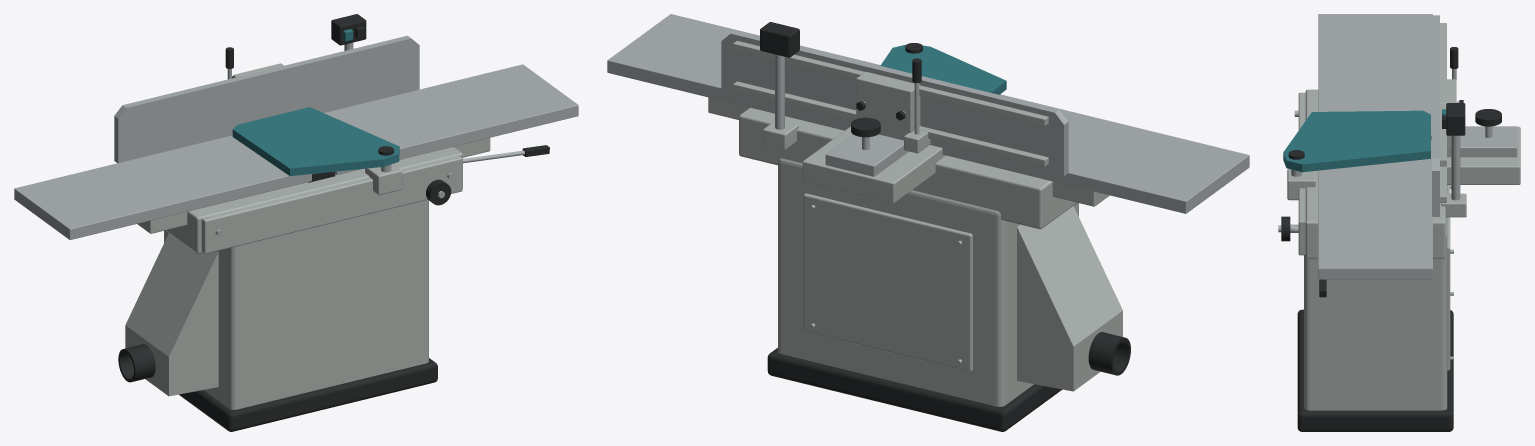
3 renders of one model, left to right at view 1: azimuth 30°, elevation 25°; view 2: azimuth 150°, elevation 25°; view 3: azimuth 270°, elevation 25°, orthographic. The views are drawn at different scales.
Visible parts, largest first — view 1: Low enclosed cabinet, Long upright straight fence, Long exposed worktable -0.496, Long exposed worktable 0.496, Tapered side extraction hood, Front apron, Central covered cutter guard, Continuous floor plinth, Main upper casting, Hollow side outlet lip, Guard pivot bracket, Raised switch pod (+1 smaller); view 2: Rear cabinet service panel, Low enclosed cabinet, Tapered side extraction hood, Long upright straight fence, Long exposed worktable -0.496, Main upper casting, Long exposed worktable 0.496, Continuous floor plinth, Rear fence mounting base, Fence rear mounting block, Central covered cutter guard, Rear fence stiffening rail 0.992 (+7 smaller); view 3: Low enclosed cabinet, Long exposed worktable 0.496, Long exposed worktable -0.496, Central covered cutter guard, Continuous floor plinth, Main upper casting, Rear fence mounting base, Fence sliding carriage, Long upright straight fence, Front apron, Rear fence stiffening rail 0.992, Raised switch pod (+8 smaller).
Boxes of the visible parts, x1,y1,x2,y2 form: Low enclosed cabinet: (164, 199, 428, 409); Long upright straight fence: (114, 35, 419, 163); Long exposed worktable -0.496: (14, 135, 311, 239); Long exposed worktable 0.496: (324, 64, 578, 174); Tapered side extraction hood: (125, 233, 218, 396); Front apron: (201, 155, 462, 253); Central covered cutter guard: (232, 107, 399, 175); Continuous floor plinth: (179, 358, 437, 431); Main upper casting: (166, 146, 462, 253); Hollow side outlet lip: (118, 344, 155, 382); Guard pivot bracket: (365, 164, 402, 194); Raised switch pod: (331, 14, 366, 45); Rear cabinet service panel: (803, 193, 972, 371); Low enclosed cabinet: (778, 158, 1078, 406); Tapered side extraction hood: (1017, 206, 1122, 391); Long upright straight fence: (721, 30, 1068, 175); Long exposed worktable -0.496: (930, 94, 1249, 213); Main upper casting: (739, 107, 1076, 229); Long exposed worktable 0.496: (607, 14, 880, 130); Continuous floor plinth: (767, 348, 1062, 431); Rear fence mounting base: (802, 126, 945, 203); Fence rear mounting block: (856, 71, 920, 140); Central covered cutter guard: (880, 44, 1006, 94); Rear fence stiffening rail 0.992: (733, 40, 1048, 126); Low enclosed cabinet: (1304, 185, 1447, 410); Long exposed worktable 0.496: (1318, 147, 1432, 279); Long exposed worktable -0.496: (1318, 14, 1432, 140); Central covered cutter guard: (1283, 110, 1430, 172); Continuous floor plinth: (1297, 309, 1453, 431); Main upper casting: (1305, 89, 1445, 258); Rear fence mounting base: (1431, 126, 1520, 184); Fence sliding carriage: (1447, 126, 1517, 157); Long upright straight fence: (1432, 15, 1439, 216); Front apron: (1298, 92, 1305, 255); Rear fence stiffening rail 0.992: (1440, 23, 1446, 166); Raised switch pod: (1446, 103, 1465, 135).
Size of the model in its own units: 189 by 110 by 76.
